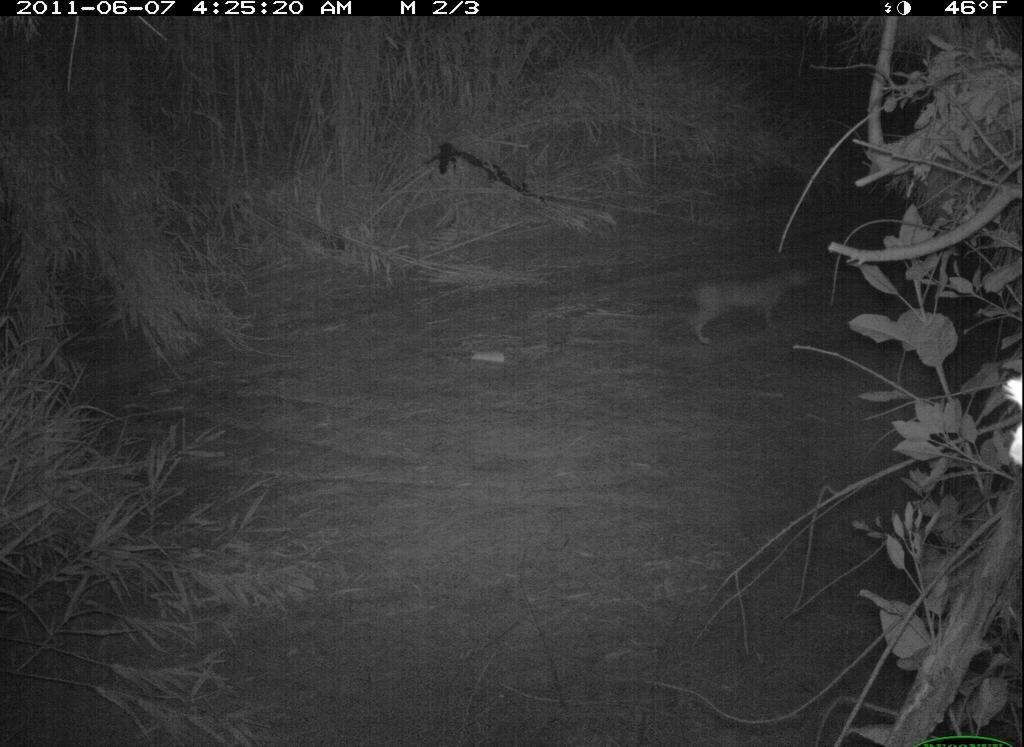bobcat: (655, 249, 835, 361)
